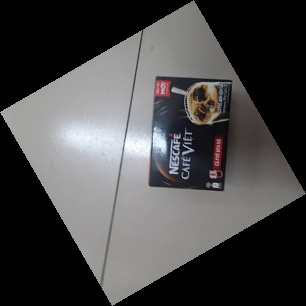CF Viet: (147, 75, 233, 193)
